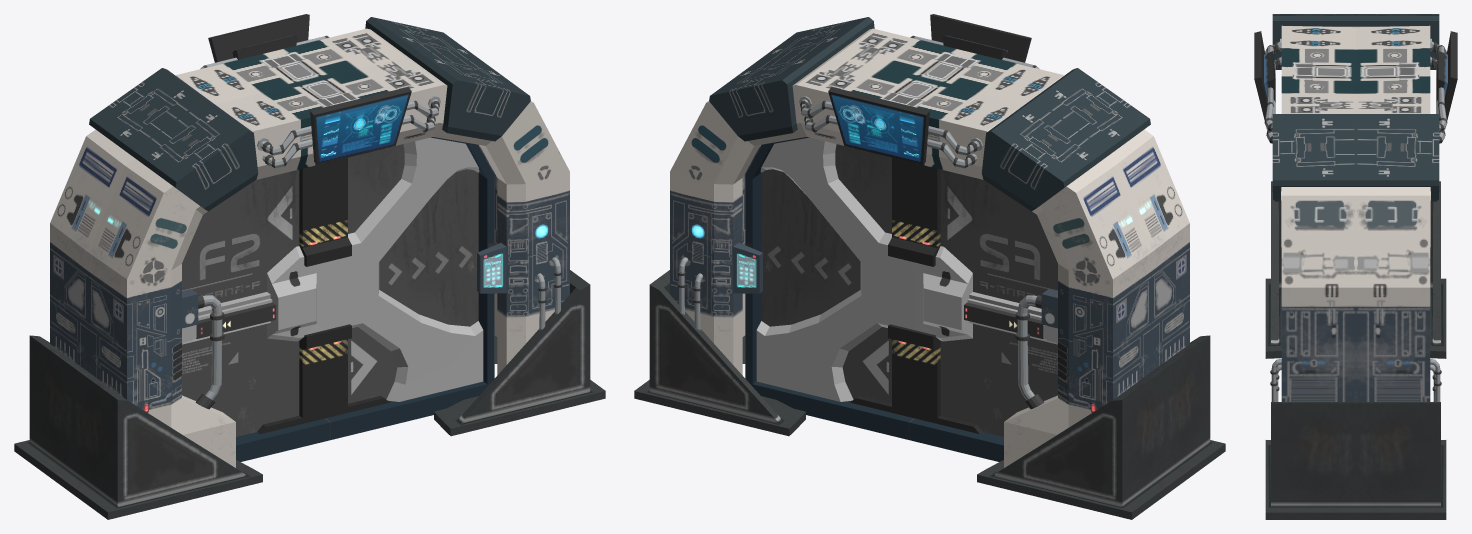
The picture shows the model from 3 angles, left to right: view 1: azimuth 30°, elevation 25°; view 2: azimuth 150°, elevation 25°; view 3: azimuth 270°, elevation 25°; orthographic projection. The views are drawn at different scales.
Parts seen in each view (by area): view 1: Object008_pillar_0, Object008_LOCK1_0, Object008_DOOR_0, Object008_Bottom_0, Object008_lock02_0, Object008_emissive_0, Object008_TUBE_0; view 2: Object008_pillar_0, Object008_LOCK1_0, Object008_DOOR_0, Object008_Bottom_0, Object008_lock02_0, Object008_emissive_0, Object008_TUBE_0; view 3: Object008_pillar_0, Object008_Bottom_0, Object008_LOCK1_0, Object008_emissive_0, Object008_TUBE_0.
Part boxes in pixels (box(x1,y1,x2,y2)): Object008_pillar_0: box(50, 28, 569, 467); Object008_LOCK1_0: box(89, 17, 530, 401); Object008_DOOR_0: box(182, 137, 494, 461); Object008_Bottom_0: box(14, 270, 605, 519); Object008_lock02_0: box(257, 157, 389, 434); Object008_emissive_0: box(208, 14, 411, 164); Object008_TUBE_0: box(195, 35, 562, 409); Object008_pillar_0: box(670, 28, 1189, 467); Object008_LOCK1_0: box(709, 17, 1150, 401); Object008_DOOR_0: box(745, 137, 1057, 461); Object008_Bottom_0: box(634, 270, 1225, 519); Object008_lock02_0: box(850, 157, 982, 434); Object008_emissive_0: box(828, 14, 1031, 164); Object008_TUBE_0: box(677, 35, 1044, 409); Object008_pillar_0: box(1281, 25, 1430, 401); Object008_Bottom_0: box(1265, 181, 1446, 519); Object008_LOCK1_0: box(1272, 14, 1439, 201); Object008_emissive_0: box(1254, 31, 1457, 128); Object008_TUBE_0: box(1264, 38, 1447, 401).
Size of the model in its own units: 221 by 154 by 81.25.
7 materials, 7 textured.
